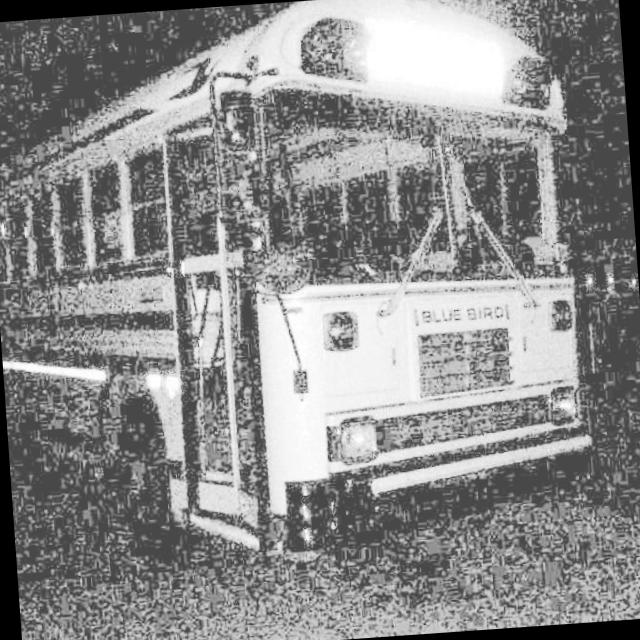Bus: (0, 0, 611, 583)
